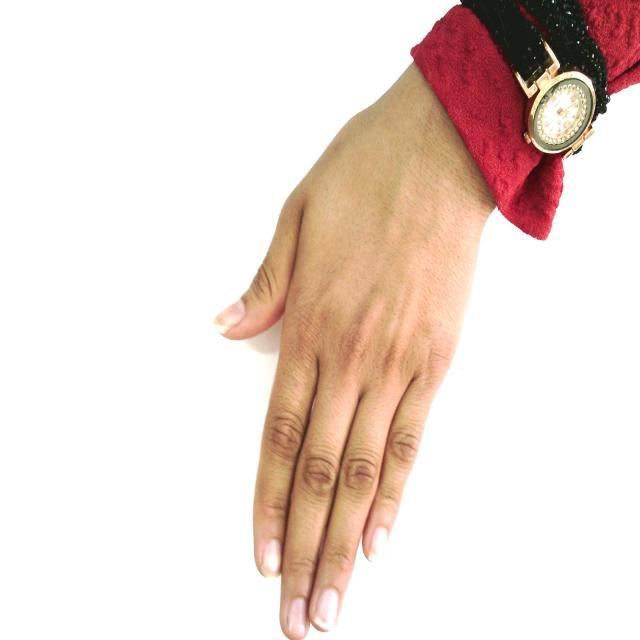Fingernail: (314, 588, 338, 630), (215, 301, 244, 330), (287, 598, 307, 639), (262, 541, 280, 576), (369, 528, 387, 558)
